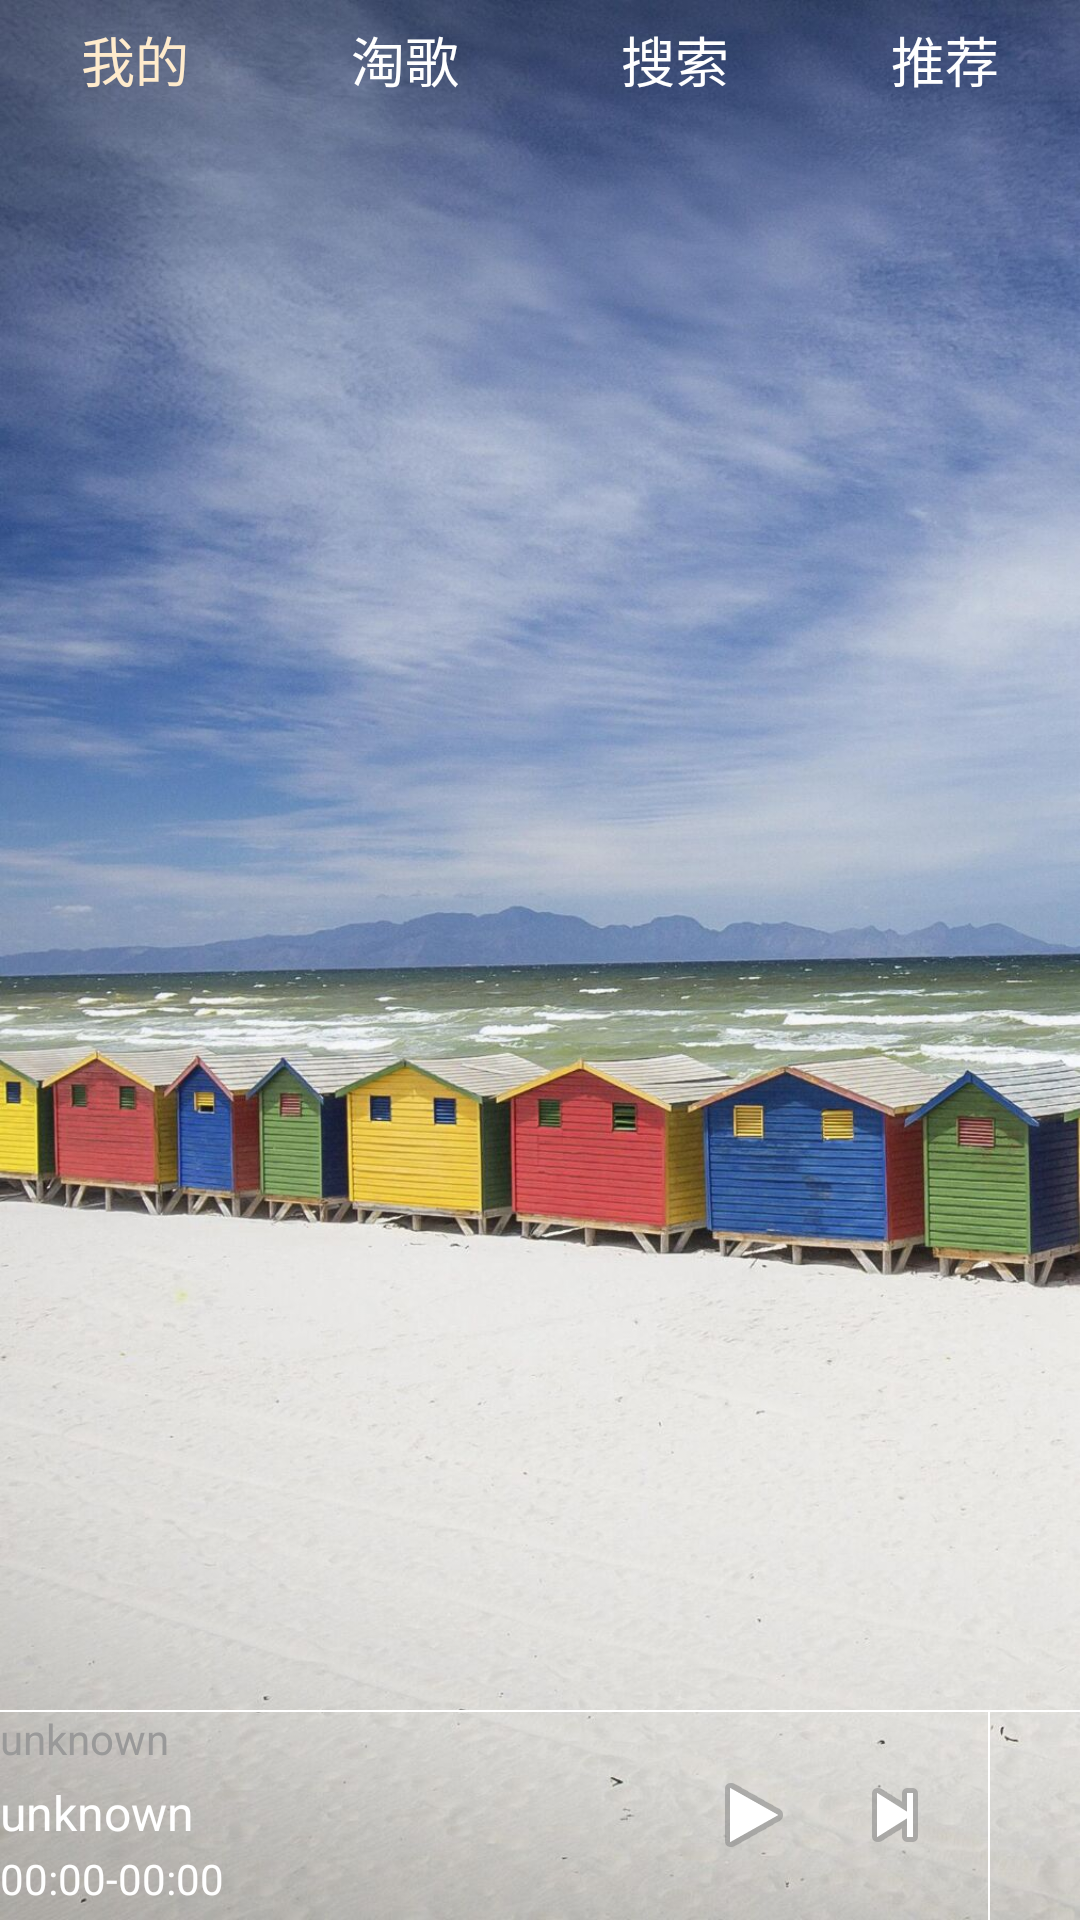

Named icons in this screenshot (1080×1920) and their bounding boxes, (x1=x1, y1=y1, x2=x2, y2=y2):
next: (x1=872, y1=1785, x2=918, y2=1858)
play: (x1=725, y1=1783, x2=783, y2=1854)
